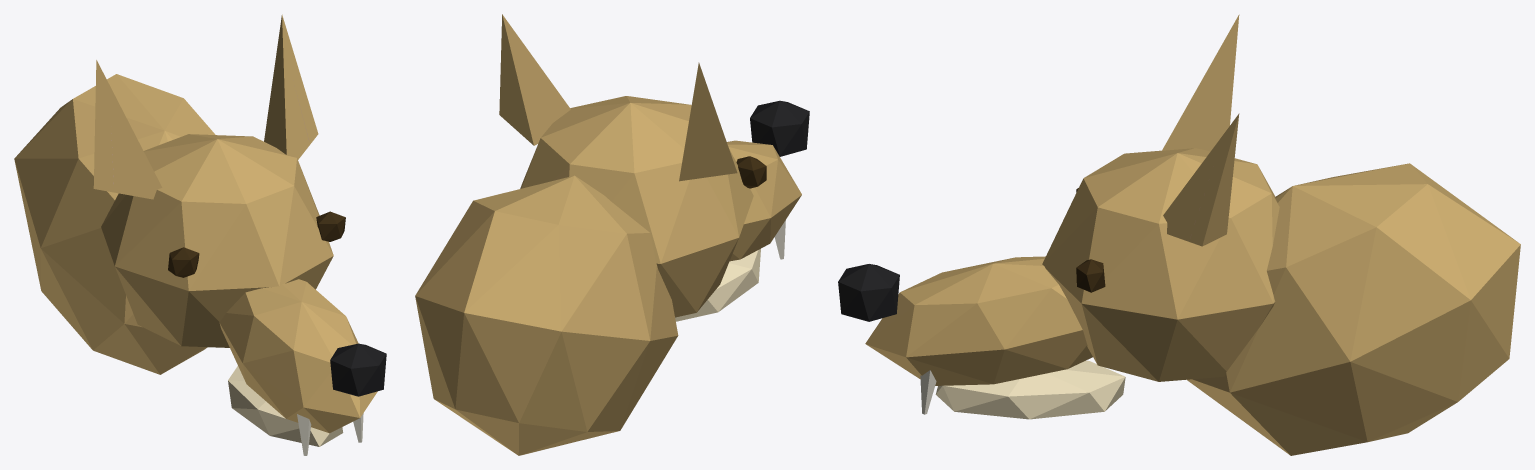
The model's file is wolf_2_head.glb.
3 views of the same model, side by side, from view 1: azimuth 30°, elevation 25°; view 2: azimuth 150°, elevation 25°; view 3: azimuth 270°, elevation 25° (orthographic). The views are drawn at different scales.
Parts seen in each view (by area): view 1: wolf_2_head; view 2: wolf_2_head; view 3: wolf_2_head.
Part boxes in pixels (x1,y1,x2,y2): wolf_2_head: [14, 14, 386, 455]; wolf_2_head: [415, 14, 809, 455]; wolf_2_head: [838, 14, 1520, 455].
Bounding box in the file's own units: 0.23 × 0.3387 × 0.5533.
